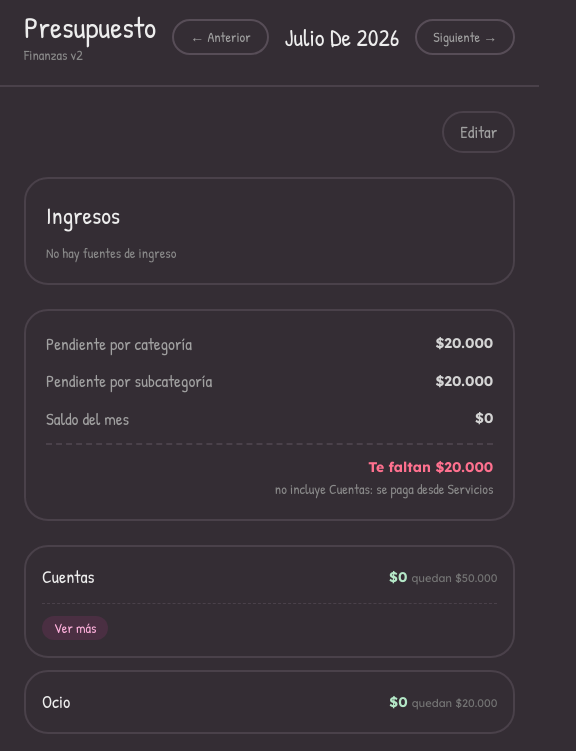
Test: FinanceV2Screen › envelope wiring › withholds the account coverage figures while a newly viewed month loads
This screenshot has width=576, height=751.
Click the button "Siguiente →": click(465, 37) 415,19 -> 515,55
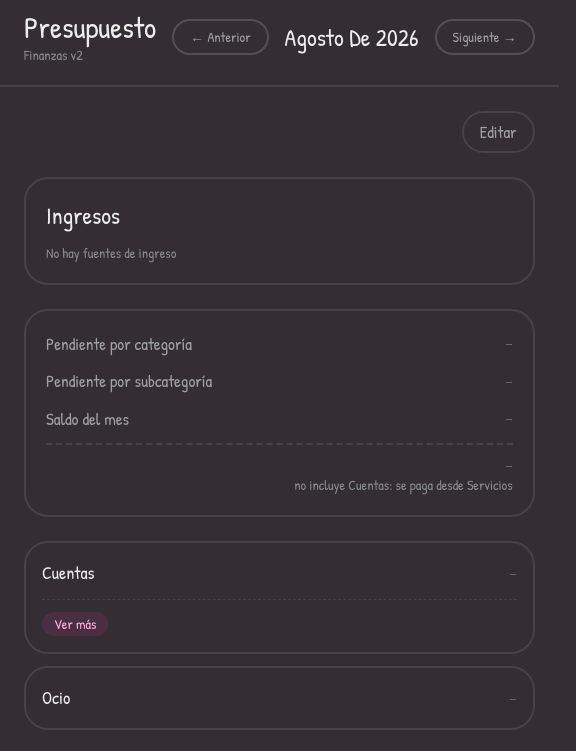
Expected: the text "—" in the row of "Pendiente por subcategoría" is shown, 506,374 -> 513,388
Expected: the text "Te faltan $20.000" is gone
